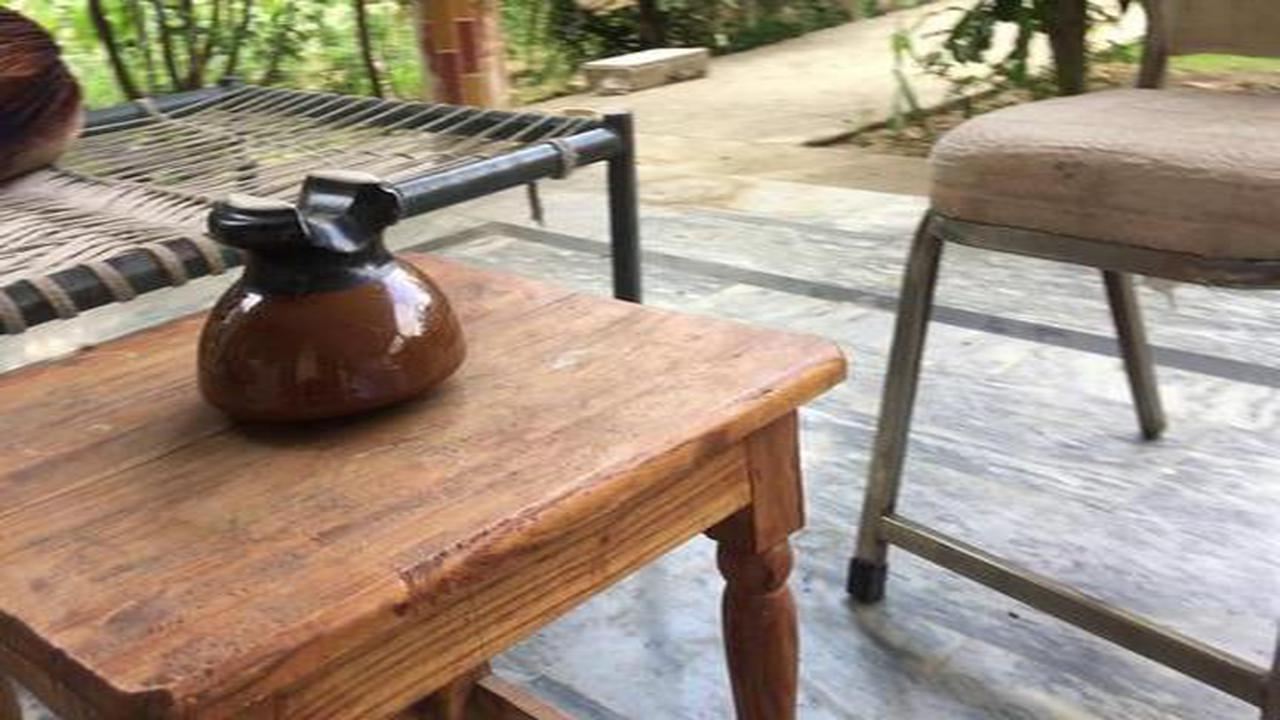insulator_pin: (176, 153, 468, 449)
